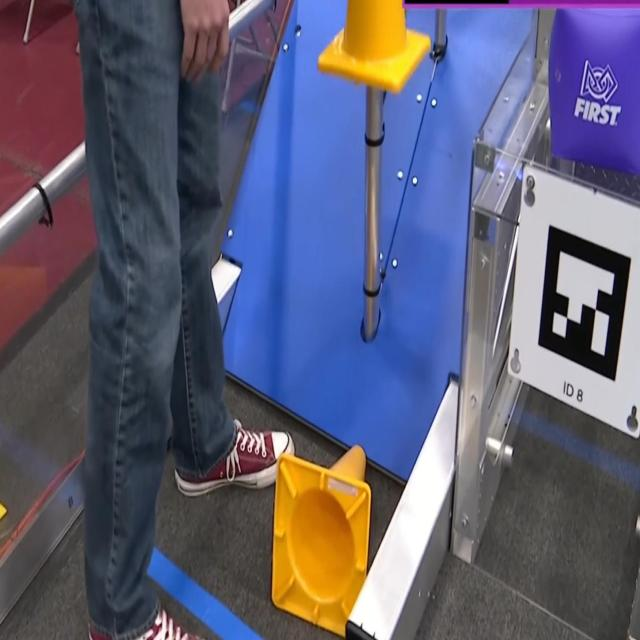frc_cone: (272, 445, 374, 639), (315, 0, 434, 101)
frc_cube: (545, 0, 639, 172)
